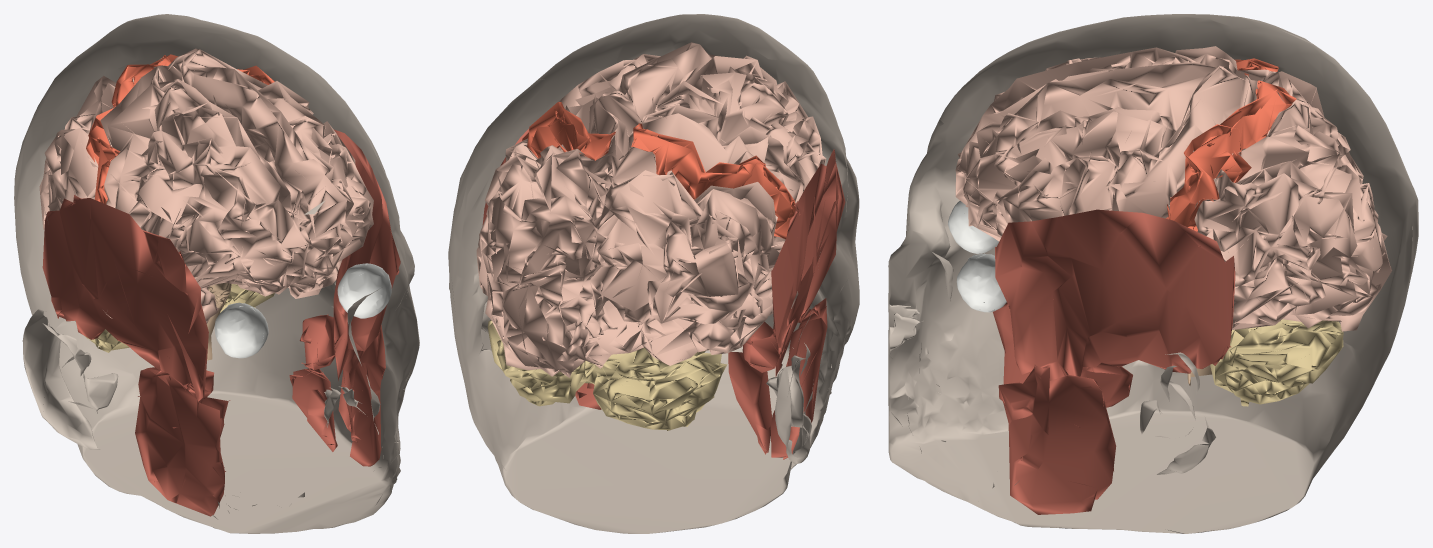
The model's file is brain.glb.
3 views of the same model, side by side, from view 1: azimuth 30°, elevation 25°; view 2: azimuth 150°, elevation 25°; view 3: azimuth 270°, elevation 25° (orthographic). The views are drawn at different scales.
Visible parts, largest first — view 1: head_skin, cerebrum, jaw_muscles, eyes, somatosensory_cortex, cerebellum, brainstem; view 2: cerebrum, head_skin, jaw_muscles, cerebellum, somatosensory_cortex; view 3: head_skin, cerebrum, jaw_muscles, cerebellum, somatosensory_cortex, eyes.
Boxes of the visible parts, left/top/right/bottom form: head_skin: left=14, top=14, right=419, bottom=533; cerebrum: left=39, top=48, right=373, bottom=323; jaw_muscles: left=42, top=129, right=400, bottom=516; eyes: left=214, top=263, right=391, bottom=358; somatosensory_cortex: left=86, top=54, right=274, bottom=204; cerebellum: left=75, top=284, right=274, bottom=352; brainstem: left=206, top=283, right=231, bottom=360; cerebrum: left=476, top=42, right=826, bottom=377; head_skin: left=448, top=14, right=859, bottom=533; jaw_muscles: left=482, top=128, right=845, bottom=459; cerebellum: left=487, top=320, right=727, bottom=430; somatosensory_cortex: left=522, top=102, right=795, bottom=239; head_skin: left=888, top=14, right=1418, bottom=533; cerebrum: left=955, top=46, right=1392, bottom=331; jaw_muscles: left=993, top=209, right=1235, bottom=514; cerebellum: left=1210, top=319, right=1343, bottom=406; somatosensory_cortex: left=1166, top=58, right=1296, bottom=231; eyes: left=948, top=201, right=1006, bottom=312.
Bounding box in the file's own units: 0.1564 × 0.2003 × 0.2163.
